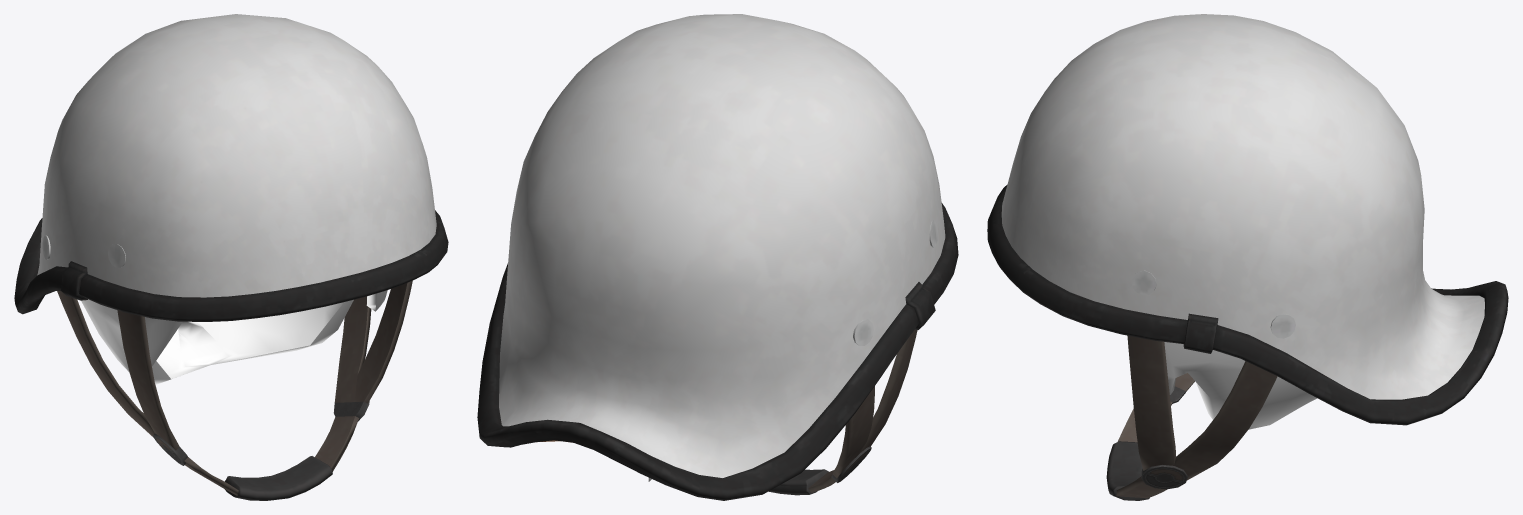
The model's file is p0_hdw0106_00_hdw00.gltf.
3 views of the same model, side by side, from view 1: azimuth 30°, elevation 25°; view 2: azimuth 150°, elevation 25°; view 3: azimuth 270°, elevation 25° (orthographic). The views are drawn at different scales.
Parts seen in each view (by area): view 1: hdw00_met_mesh_shape:cap, hdw00_hairstyle_mesh_shape:hairstyle; view 2: hdw00_met_mesh_shape:cap; view 3: hdw00_met_mesh_shape:cap, hdw00_hairstyle_mesh_shape:hairstyle.
Boxes of the visible parts, left/top/right/bottom form: hdw00_met_mesh_shape:cap: left=14, top=14, right=448, bottom=500; hdw00_hairstyle_mesh_shape:hairstyle: left=81, top=290, right=387, bottom=384; hdw00_met_mesh_shape:cap: left=477, top=14, right=958, bottom=500; hdw00_met_mesh_shape:cap: left=987, top=14, right=1508, bottom=500; hdw00_hairstyle_mesh_shape:hairstyle: left=1164, top=342, right=1317, bottom=429.
Size of what is drawn, in the model's own units: 0.2873 by 0.3311 by 0.3484.
Materials: 2 (1 with a texture image).
